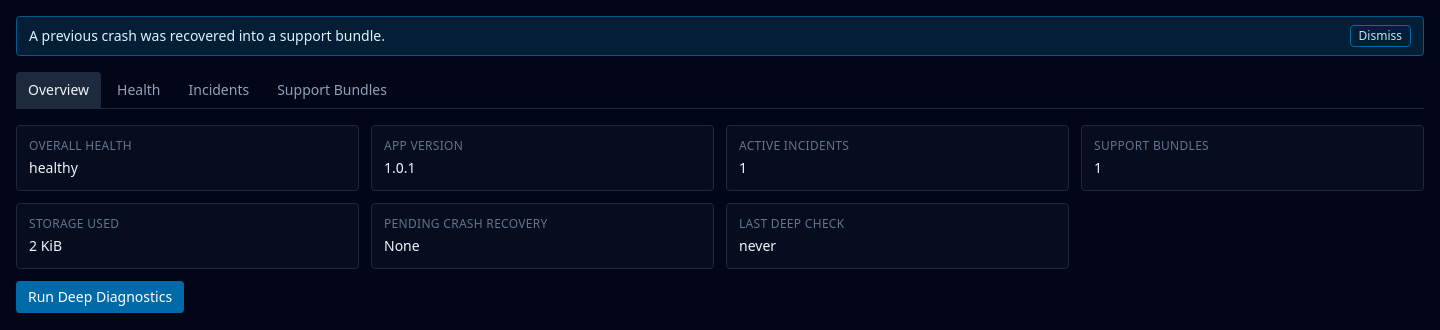
DiagnosticsPage › banner announces recovery via role=status
Expected: the message shows "recovered into a support bundle", [29,26,385,45]
Click the button "Dismiss" at (1380, 36), box [1350,25,1411,47]
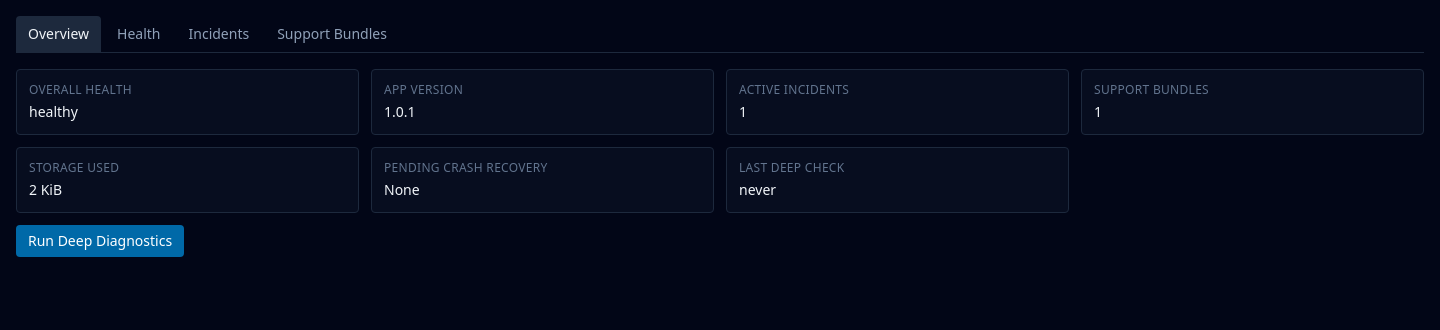
Expected: the message "A previous crash was recovered into a support bundle. Dismiss" is gone
